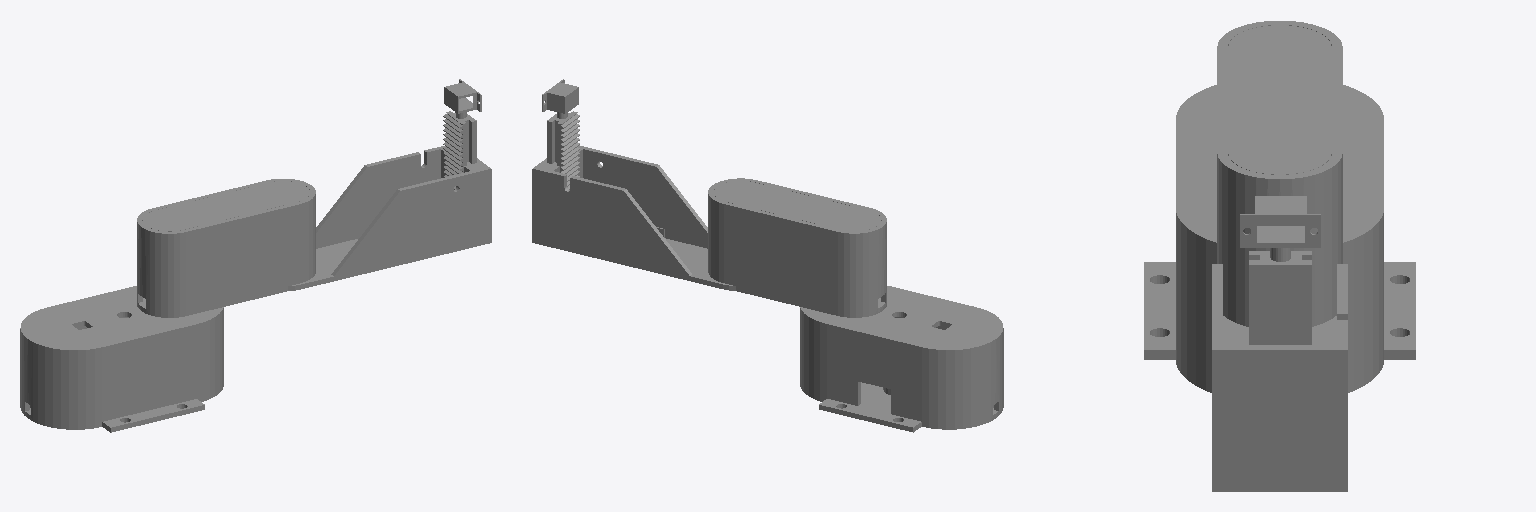
URDF robot description (Scara_Final):
<?xml version="1.0"?>
<robot name="Scara_Final">

  <!-- Fijar la base del SCARA al mundo erguido -->
  <link name="world"/>

  <joint name="world_to_base" type="fixed">
  <parent link="world"/>
  <child link="base_link"/>
  <!-- Elevamos 0.2 metros en Z -->
  <origin xyz="0 0 0.1" rpy="1.5708 0 0"/>
</joint>

  <!-- Materials -->
  <material name="Acero">
    <color rgba="0.627 0.627 0.627 1.0"/>
  </material>

  <link name="base_link">
    <inertial>
    <origin xyz="0 0 0" rpy="0 0 0"/>
    <mass value="10.0"/>
    <inertia ixx="0.1" ixy="0.0" ixz="0.0" iyy="0.1" iyz="0.0" izz="0.1"/>
  </inertial>
    <visual>
      <origin xyz="0.000000 0.000000 0.000000" rpy="3.141593 0.000000 0.000000"/>
      <geometry>
        <mesh filename="package://Scara_Final_description/meshes/Scara_Final/base_link.dae" scale="1 1 1"/>
      </geometry>
      <material name="Acero"/>
    </visual>
    <collision>
      <origin xyz="0.000000 0.000000 0.000000" rpy="3.141593 0.000000 0.000000"/>
      <geometry>
        <mesh filename="package://Scara_Final_description/meshes/Scara_Final/base_link.dae" scale="1 1 1"/>
      </geometry>
    </collision>
  </link>

  <link name="Link_1">
    <inertial>
      <origin xyz="-0.058611 0.000000 0.030105" rpy="0 0 0"/>
      <mass value="2.036006"/>
      <inertia ixx="2.776311e-03" ixy="0.000000e+00" ixz="-9.476064e-05"
               iyy="7.494287e-03" iyz="0.000000e+00" izz="6.647105e-03"/>
    </inertial>
    <visual>
      <origin xyz="-0.120000 0.000000 0.075300" rpy="-1.570796 0.000000 0.000000"/>
      <geometry>
        <mesh filename="package://Scara_Final_description/meshes/Link_1/Link_1.dae" scale="1 1 1"/>
      </geometry>
      <material name="Acero"/>
    </visual>
    <collision>
      <origin xyz="-0.120000 0.000000 0.075300" rpy="-1.570796 0.000000 0.000000"/>
      <geometry>
        <mesh filename="package://Scara_Final_description/meshes/Link_1/Link_1.dae" scale="1 1 1"/>
      </geometry>
    </collision>
  </link>

  <link name="Cremallera2">
    <inertial>
      <origin xyz="-0.252371 -0.157170 -0.024697" rpy="0 0 0"/>
      <mass value="0.375726"/>
      <inertia ixx="3.455143e-05" ixy="1.171535e-06" ixz="1.098812e-06"
               iyy="4.475029e-04" iyz="2.998619e-08" izz="4.328522e-04"/>
    </inertial>
    <visual>
      <origin xyz="-0.308358 -0.165300 -0.009650" rpy="0.000000 0.000000 0.000000"/>
      <geometry>
        <mesh filename="package://Scara_Final_description/meshes/Scara_Final/Cremallera2.dae" scale="1 1 1"/>
      </geometry>
      <material name="Acero"/>
    </visual>
    <collision>
      <origin xyz="-0.308358 -0.165300 -0.009650" rpy="0.000000 0.000000 0.000000"/>
      <geometry>
        <mesh filename="package://Scara_Final_description/meshes/Scara_Final/Cremallera2.dae" scale="1 1 1"/>
      </geometry>
    </collision>
  </link>

  <link name="Base_Link">
    <inertial>
      <origin xyz="-0.050226 -0.000558 -0.041507" rpy="0 0 0"/>
      <mass value="2.923528"/>
      <inertia ixx="6.273369e-03" ixy="3.683636e-07" ixz="-3.543508e-05"
               iyy="1.283596e-02" iyz="-3.473510e-05" izz="1.365293e-02"/>
    </inertial>
    <visual>
      <origin xyz="0.000000 0.000000 -0.075300" rpy="1.570796 0.000000 0.000000"/>
      <geometry>
        <mesh filename="package://Scara_Final_description/meshes/Base_Link/Base_Link.dae" scale="1 1 1"/>
      </geometry>
      <material name="Acero"/>
    </visual>
    <collision>
      <origin xyz="0.000000 0.000000 -0.075300" rpy="1.570796 0.000000 0.000000"/>
      <geometry>
        <mesh filename="package://Scara_Final_description/meshes/Base_Link/Base_Link.dae" scale="1 1 1"/>
      </geometry>
    </collision>
  </link>

  <joint name="Revoluci_n_2" type="continuous">
    <parent link="base_link"/>
    <child link="Link_1"/>
    <origin xyz="0.000000 0.067300 0.000000" rpy="1.570796 0.000000 0.000000"/>
    <axis xyz="0.000000 0.000000 1.000000"/>
    <limit effort="100.0" velocity="1.00"/>
  </joint>

  <joint name="Corredera_4" type="prismatic">
    <parent link="base_link"/>
    <child link="Cremallera2"/>
    <origin xyz="0.030900 0.291858 0.024300" rpy="0.000000 0.000000 1.570796"/>
    <axis xyz="1.000000 0.000000 0.000000"/>
    <limit lower="0.015000" upper="0.040000" effort="100.0" velocity="1.00"/>
  </joint>

  <joint name="Revoluci_n_1" type="continuous">
    <parent link="Link_1"/>
    <child link="Base_Link"/>
    <origin xyz="-0.120000 0.000000 0.073800" rpy="3.141593 0.000000 0.000000"/>
    <axis xyz="0.000000 0.000000 1.000000"/>
    <limit effort="100.0" velocity="1.00"/>
  </joint>

  <!-- ROS 2 control: Conectado al sistema físico de Gazebo -->
  <ros2_control name="Scara_Final_system" type="system">
    <hardware>
      <plugin>gz_ros2_control/GazeboSimSystem</plugin>
    </hardware>

    <joint name="Corredera_4">
      <command_interface name="position"/>
      <state_interface name="position">
        <param name="initial_value">0.0</param>
      </state_interface>
      <state_interface name="velocity"/>
      <state_interface name="effort"/>
    </joint>
    <joint name="Revoluci_n_1">
      <command_interface name="position"/>
      <state_interface name="position">
        <param name="initial_value">0.0</param>
      </state_interface>
      <state_interface name="velocity"/>
      <state_interface name="effort"/>
    </joint>
    <joint name="Revoluci_n_2">
      <command_interface name="position"/>
      <state_interface name="position">
        <param name="initial_value">0.0</param>
      </state_interface>
      <state_interface name="velocity"/>
      <state_interface name="effort"/>
    </joint>
  </ros2_control>

  <!-- Plugin de Gazebo para cargar controladores -->
 <gazebo>
  <plugin filename="gz_ros2_control-system" name="gz_ros2_control::GazeboSimROS2ControlPlugin">
    <parameters>/home/nou/ros2_ws/src/Scara_Final_description/config/controllers.yaml</parameters>
  </plugin>
</gazebo>

</robot>

--- Facts derived from the render (not from the file) ---
Views: 3 orthographic renders of the robot side by side, from view 1: azimuth 30°, elevation 25°; view 2: azimuth 150°, elevation 25°; view 3: azimuth 270°, elevation 25°.
Robot: Scara_Final — 5 links, 4 joints (2 continuous, 1 prismatic, 1 fixed); root link world; default pose: joints at zero except 1 at the middle of their limits (Corredera_4 = 0.0275).
Visible links, largest first — view 1: Base_Link, Link_1, base_link, Cremallera2; view 2: Base_Link, Link_1, base_link, Cremallera2; view 3: Base_Link, Link_1, base_link, Cremallera2.
Boxes of the visible links, x1,y1,x2,y2 form: Base_Link: (20, 286, 223, 432); Link_1: (137, 179, 315, 317); base_link: (288, 146, 491, 290); Cremallera2: (443, 79, 481, 189); Base_Link: (800, 286, 1003, 432); Link_1: (708, 178, 886, 317); base_link: (532, 145, 735, 290); Cremallera2: (542, 79, 579, 189); Base_Link: (1144, 85, 1415, 392); Link_1: (1217, 21, 1342, 326); base_link: (1212, 264, 1347, 491); Cremallera2: (1240, 196, 1320, 344).
Bounding box of the posed robot: 0.4714 × 0.13 × 0.2252 m (x, y, z).
Meshes: 4 distinct files referenced, 4 mesh visuals loaded (4 Collada DAE).
